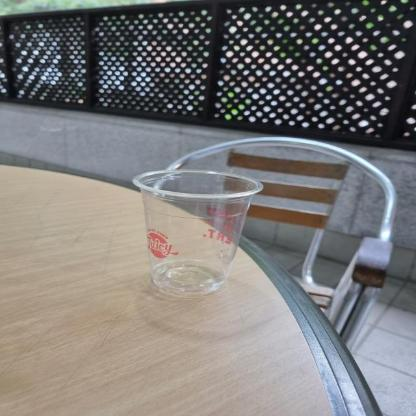Plastic Cup: (132, 170, 262, 294)
